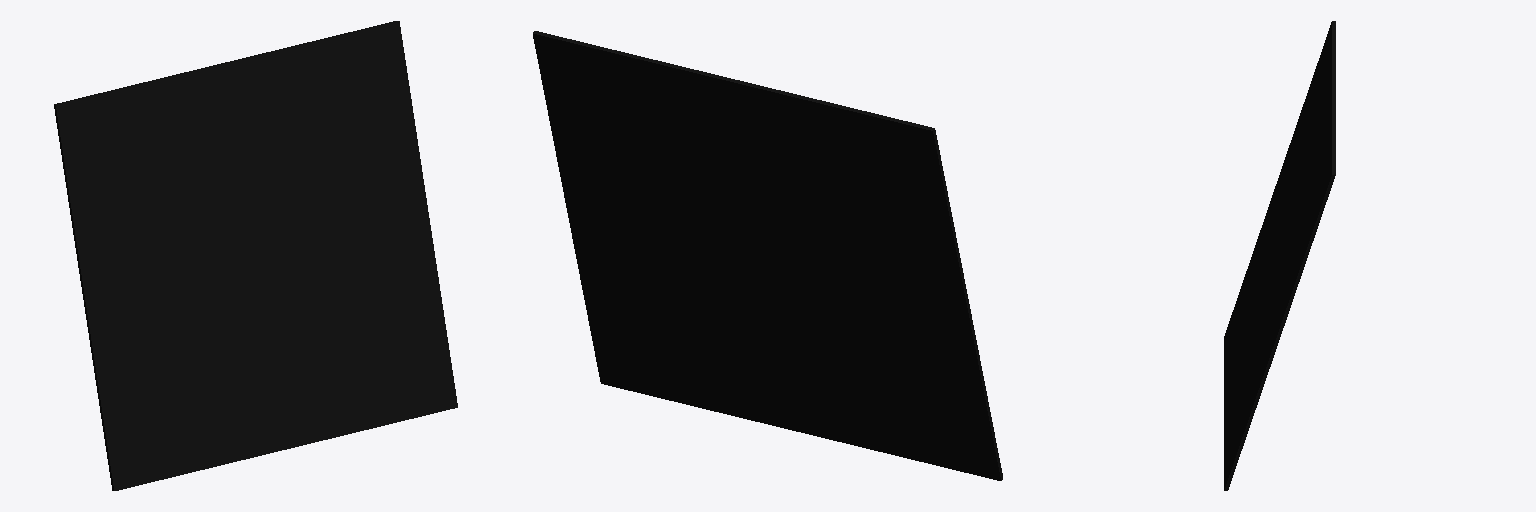
The robot description file, URDF, robot "ground_skeleton":
<?xml version="1.0"?>
<robot name="ground_skeleton">
  <material name="Black">
    <color rgba="0.1 0.1 0.1 1.0"/>
  </material>
    <link name="world" />
    <link name="ground_link">
        <inertial>
            <mass value="1.0" />
            <origin xyz="0 0 0" rpy="0 0 0" />
            <inertia ixx="1.0" ixy="0" ixz="0" iyy="1.0" iyz="0" izz="1.0" />
        </inertial>
        <visual>
            <origin xyz="0 -0 0" rpy="0 -0 0" />
            <geometry>
                <box size="25 0.25 25" />
            </geometry>
			<material name="Black"/> 
        </visual>
        <collision>
            <origin xyz="0 -0.0 0" rpy="0 -0 0" />
            <geometry>
                <box size="25 0.25 25" />
            </geometry>
			<material name="Black"/> 
        </collision>
    </link>
    <joint name="ground_joint" type="fixed">
        <origin xyz="0 0 0" rpy="-0.3 0 0" />
        <parent link="world" />
        <child link="ground_link" />
    </joint>
</robot>

--- Render facts (derived) ---
3 views of the same robot in one strip: view 1: azimuth 30°, elevation 25°; view 2: azimuth 150°, elevation 25°; view 3: azimuth 270°, elevation 25° (orthographic).
Model ground_skeleton with 2 links and 1 joints (1 fixed), rooted at world, posed all joints at 0.
Links seen in each view (by area): view 1: ground_link; view 2: ground_link; view 3: ground_link.
Link boxes in pixels (x1,y1,x2,y2): ground_link: (54, 21, 457, 490); ground_link: (533, 31, 1002, 480); ground_link: (1224, 21, 1335, 490).
Size in the robot's own frame: 25 by 7.63 by 23.96 metres.
Geometry: primitives only (box / cylinder / sphere), no mesh files.